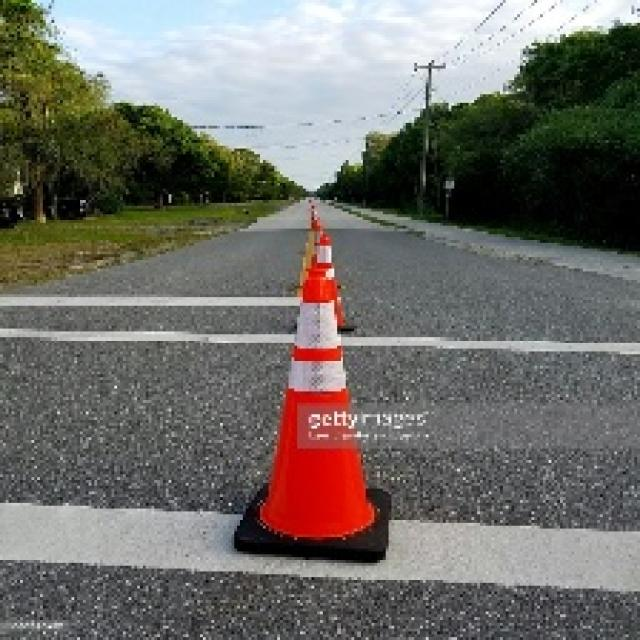cone: (234, 263, 397, 568), (311, 232, 346, 328)
